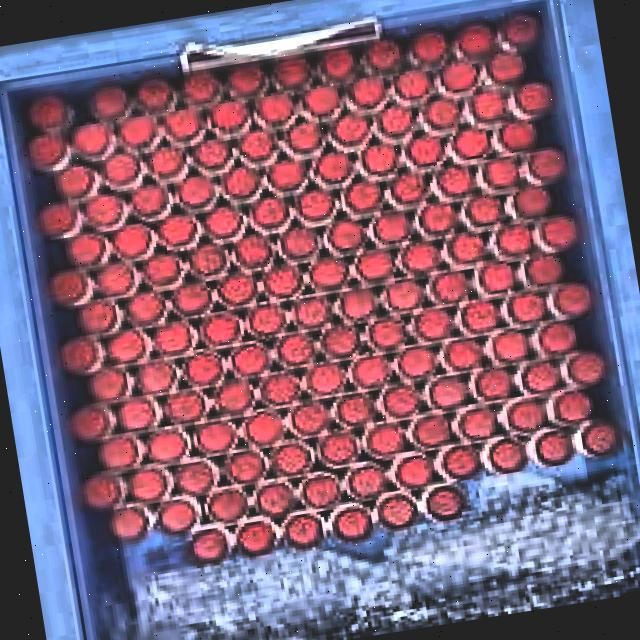vial: (44, 268, 90, 307), (135, 75, 179, 113), (254, 481, 298, 519), (331, 505, 374, 543), (137, 357, 178, 396), (283, 512, 326, 549), (505, 290, 550, 325), (155, 211, 197, 248), (166, 389, 208, 426), (301, 473, 343, 510), (215, 272, 258, 308), (23, 133, 68, 167), (129, 182, 170, 219), (320, 324, 362, 360), (207, 488, 249, 524), (366, 315, 409, 350), (244, 411, 287, 446), (116, 396, 155, 434), (82, 474, 121, 512), (266, 157, 307, 193), (404, 133, 445, 169), (487, 48, 528, 84), (77, 299, 118, 335), (347, 464, 388, 500), (146, 429, 187, 465), (36, 201, 78, 236), (443, 337, 485, 372), (384, 277, 426, 312), (193, 422, 237, 455), (411, 415, 455, 448), (453, 124, 492, 161), (338, 287, 377, 324), (321, 430, 360, 467), (223, 164, 263, 200), (142, 251, 182, 287), (535, 429, 575, 465), (87, 367, 128, 402), (413, 306, 454, 341), (27, 94, 69, 128), (111, 224, 153, 258), (434, 164, 476, 198), (214, 380, 256, 414), (289, 402, 331, 436), (553, 389, 595, 423), (512, 186, 555, 219), (345, 178, 383, 215), (500, 118, 538, 155), (155, 319, 193, 356), (539, 319, 578, 355), (129, 467, 168, 503), (108, 506, 147, 542), (425, 485, 464, 521), (208, 98, 248, 133), (227, 63, 267, 98), (70, 405, 110, 440), (234, 235, 274, 270), (307, 361, 347, 396), (352, 354, 392, 389), (271, 442, 311, 477), (172, 284, 213, 318), (355, 248, 397, 281), (381, 385, 423, 418), (541, 215, 579, 251), (70, 121, 109, 156), (185, 351, 224, 386), (492, 329, 531, 364), (177, 460, 216, 495), (457, 408, 501, 439), (192, 136, 232, 170), (248, 301, 288, 335), (126, 292, 166, 326), (395, 454, 435, 488), (429, 376, 469, 410), (204, 206, 245, 239), (261, 265, 302, 298), (508, 400, 551, 431), (489, 438, 526, 474), (231, 344, 269, 379), (378, 494, 416, 529), (191, 527, 229, 562), (164, 106, 203, 140), (333, 112, 372, 146), (373, 211, 412, 245), (496, 223, 535, 257), (398, 345, 437, 379), (277, 334, 316, 368), (296, 189, 336, 222), (460, 300, 500, 333), (378, 102, 414, 138), (120, 113, 157, 148), (240, 127, 278, 161), (516, 81, 554, 115), (60, 338, 98, 372), (107, 329, 145, 363), (98, 435, 136, 469), (101, 152, 140, 185), (390, 173, 429, 206), (410, 29, 449, 62), (201, 314, 240, 347), (464, 194, 503, 227), (526, 253, 565, 286), (159, 501, 198, 534), (366, 425, 406, 457), (473, 368, 513, 400), (441, 446, 481, 478), (362, 142, 398, 177), (287, 119, 324, 153), (530, 146, 567, 180), (190, 244, 227, 278), (228, 449, 265, 483), (585, 421, 622, 455), (181, 70, 219, 103), (257, 93, 295, 126), (303, 83, 341, 116), (273, 56, 311, 89), (366, 37, 404, 70), (262, 373, 300, 406), (326, 218, 364, 251), (431, 272, 470, 304), (308, 257, 347, 289), (419, 203, 459, 234), (478, 262, 518, 293), (521, 362, 561, 393), (317, 151, 353, 185), (320, 47, 356, 81), (252, 196, 289, 229), (448, 232, 485, 265), (238, 521, 275, 554), (570, 351, 607, 384), (439, 59, 477, 91), (292, 297, 331, 328), (335, 395, 374, 426), (95, 262, 135, 292), (56, 165, 91, 199), (282, 226, 317, 260), (66, 234, 103, 266), (426, 97, 463, 129), (485, 156, 522, 188), (460, 21, 497, 53), (556, 283, 593, 315), (85, 194, 124, 224), (177, 173, 213, 205), (394, 68, 430, 100), (403, 242, 440, 273), (473, 88, 506, 122), (91, 84, 126, 116), (350, 76, 385, 108), (505, 12, 539, 44), (151, 144, 184, 175)
